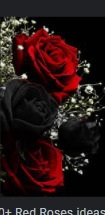RedRose: (9, 27, 85, 98), (0, 137, 66, 197)
